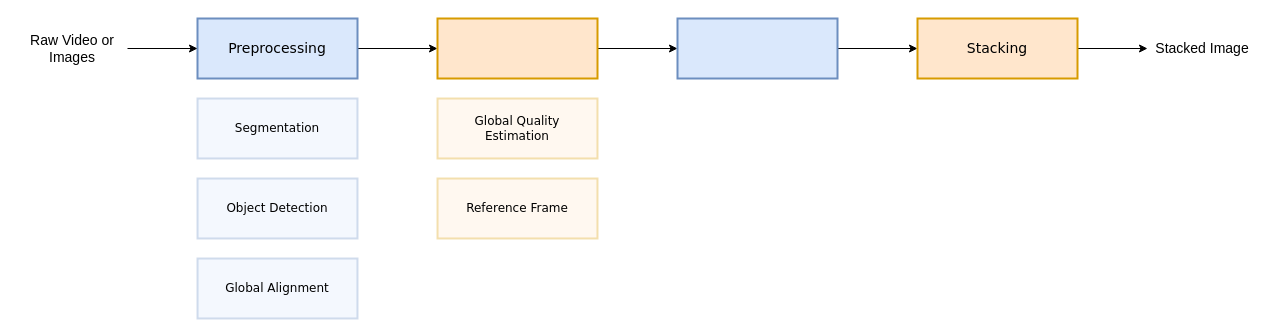
Some shapes in this 1274 by 336 pixel diagram are drawn without their labels. Here are the shapes that lost their labels. From the top down, the centre of each, then its label:
point 517,48: Frame Selection
point 757,48: Registration
